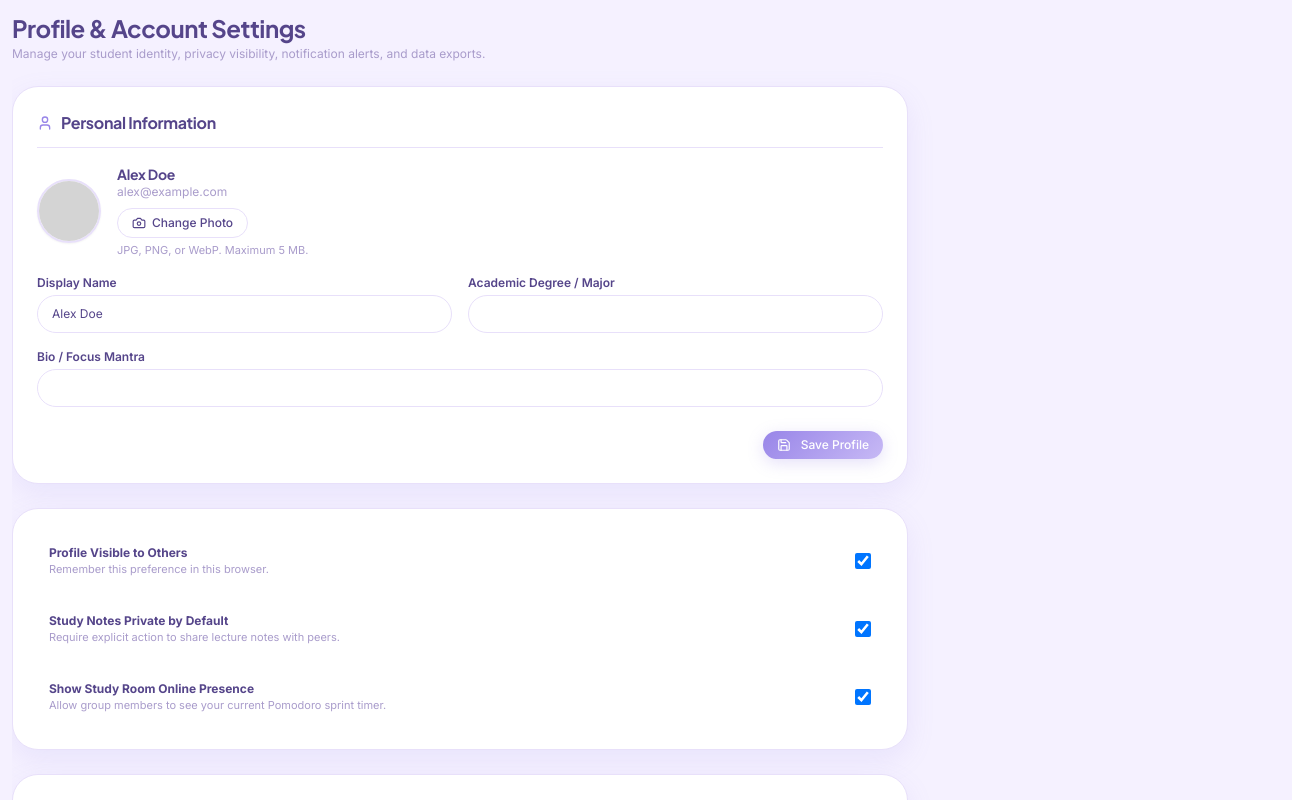
Test: profile photo settings › shows an inline success message after saving profile details
Click the button "Save Profile": point(823, 444) left=763, top=430, right=883, bottom=458
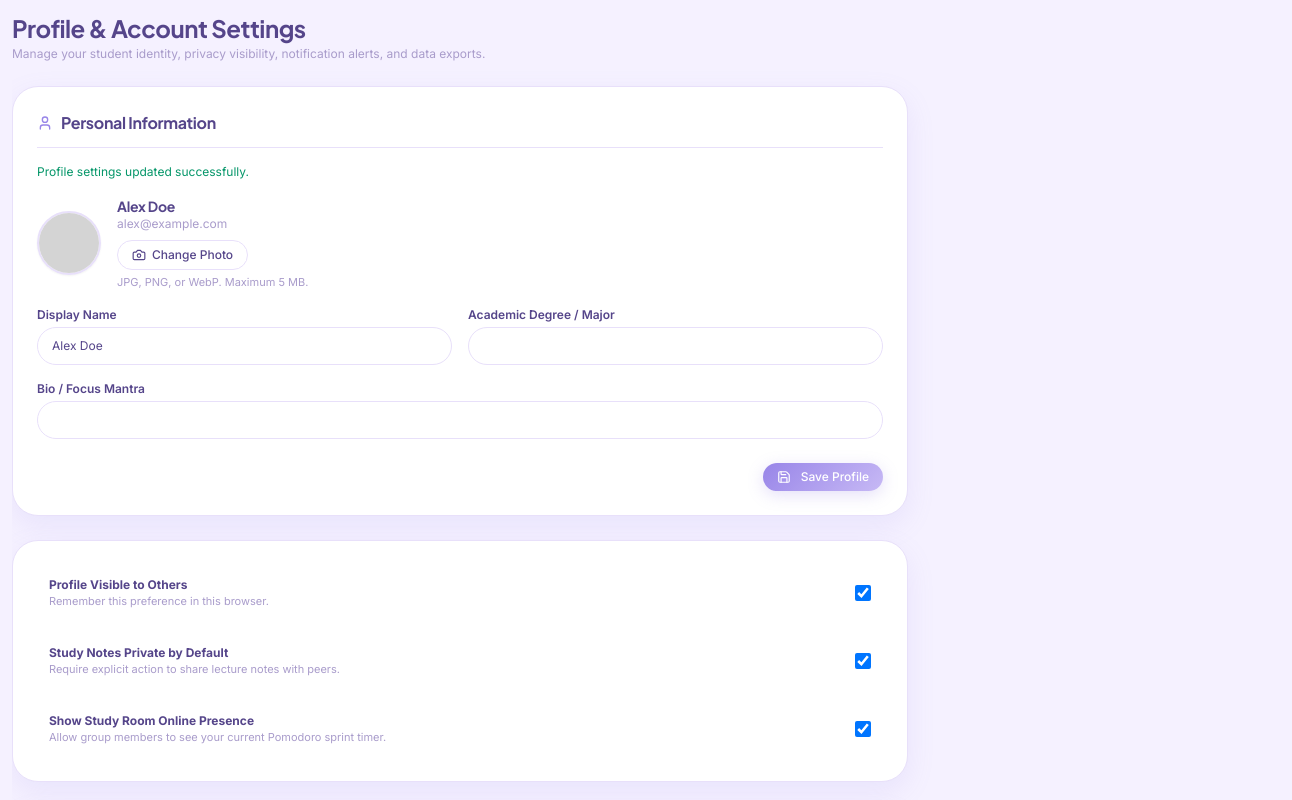
Now the message reads "Profile settings updated successfully.", box left=37, top=164, right=249, bottom=179
